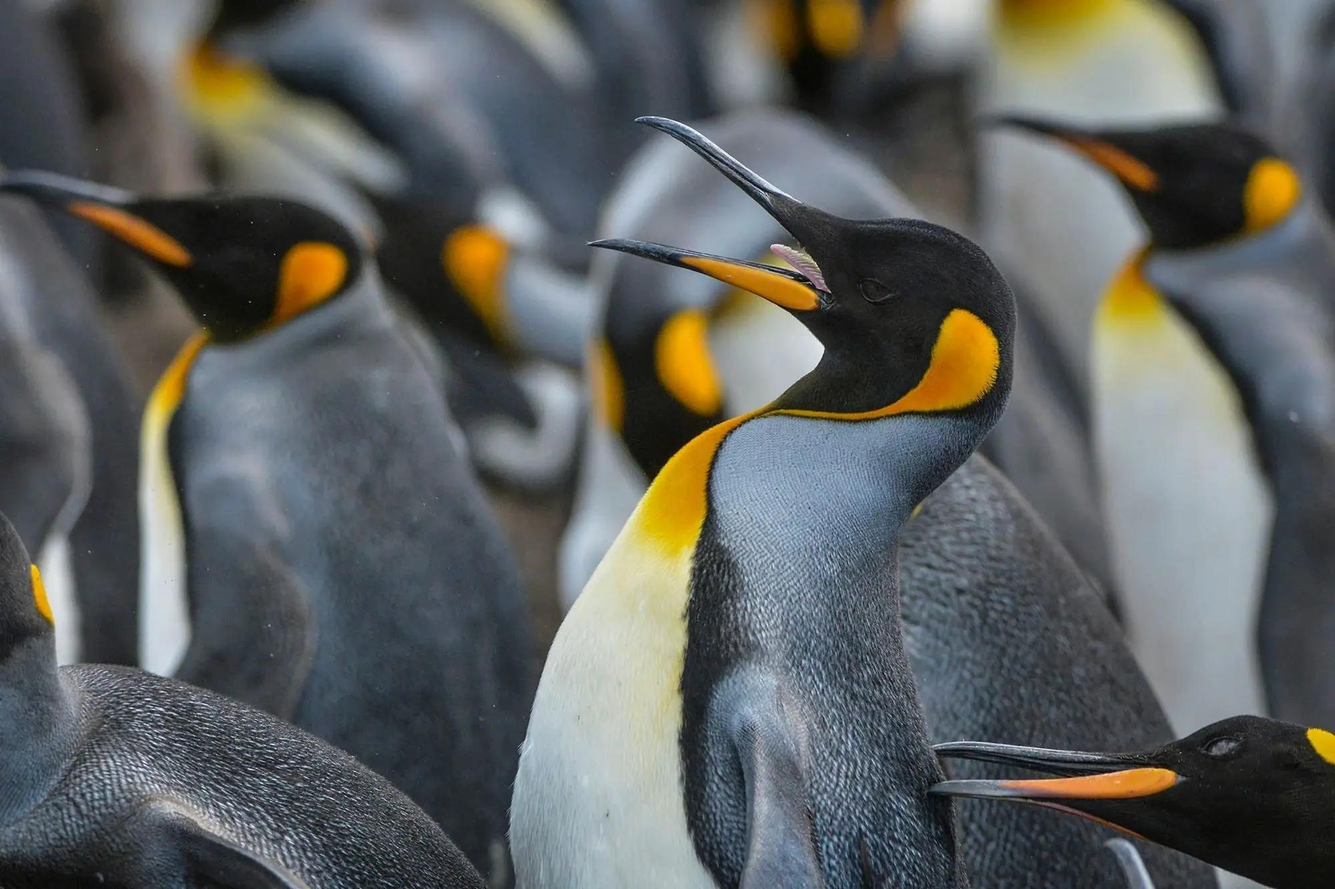Penguin: (0, 170, 541, 888), (511, 117, 1014, 884), (987, 112, 1334, 732), (0, 514, 482, 888), (896, 451, 1218, 888), (936, 714, 1334, 885)
